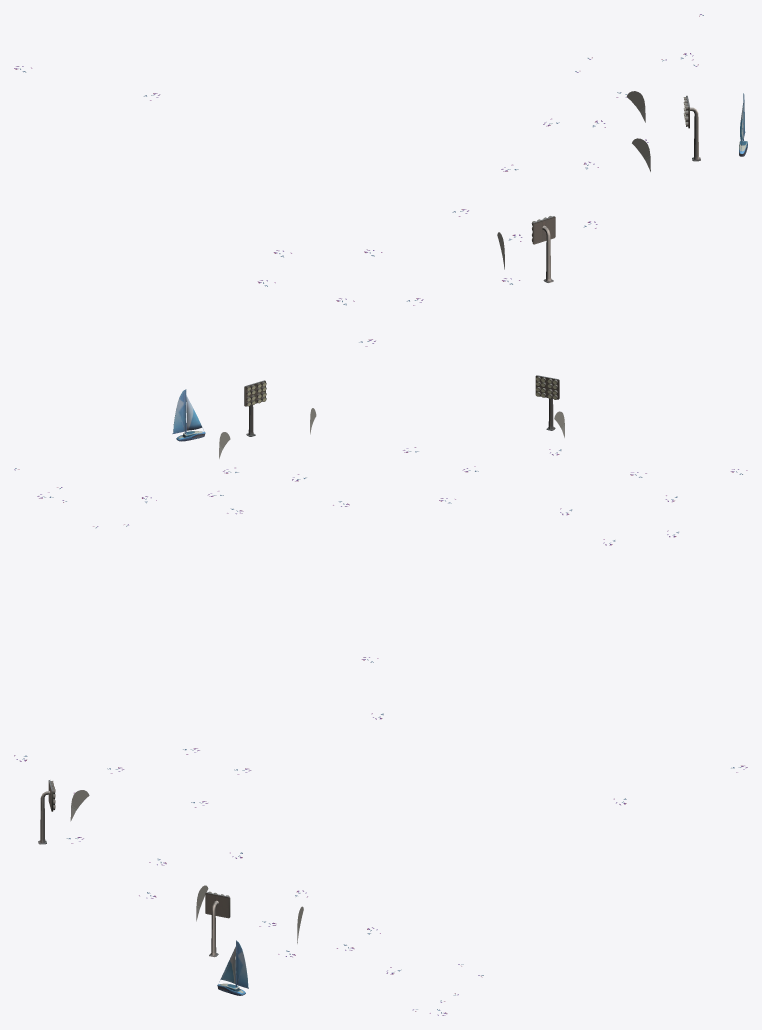
File: pref_sm_beach_bk_pointmol_smallpror01_L_lv2.fbx
3 renders of one model, top to bottom at view 1: azimuth 30°, elevation 25°; view 2: azimuth 150°, elevation 25°; view 3: azimuth 270°, elevation 25°, orthographic. The views are drawn at different scales.
Parts seen in each view (by area): view 1: sm_beach_bk_pointmol_smallpror01a_L_lv2, sm_beach_bk_pointmol_smallpror01d_L_lv2; view 2: sm_beach_bk_pointmol_smallpror01a_L_lv2, sm_beach_bk_pointmol_smallpror01b_L_lv2; view 3: sm_beach_bk_pointmol_smallpror01a_L_lv2, sm_beach_bk_pointmol_smallpror01b_L_lv2, sm_beach_bk_pointmol_smallpror01d_L_lv2, sm_beach_bk_pointmol_smallpror01c_L_lv2.
Part boxes in pixels (box(x1,y1,x2,y2)): sm_beach_bk_pointmol_smallpror01a_L_lv2: box(531, 95, 700, 282); sm_beach_bk_pointmol_smallpror01d_L_lv2: box(497, 91, 650, 269); sm_beach_bk_pointmol_smallpror01a_L_lv2: box(244, 375, 559, 436); sm_beach_bk_pointmol_smallpror01b_L_lv2: box(172, 389, 205, 441); sm_beach_bk_pointmol_smallpror01a_L_lv2: box(38, 780, 230, 957); sm_beach_bk_pointmol_smallpror01b_L_lv2: box(217, 940, 248, 995); sm_beach_bk_pointmol_smallpror01d_L_lv2: box(70, 790, 303, 943); sm_beach_bk_pointmol_smallpror01c_L_lv2: box(14, 748, 747, 1015).
Size of the model in its own units: 78.96 by 9.02 by 88.72.
